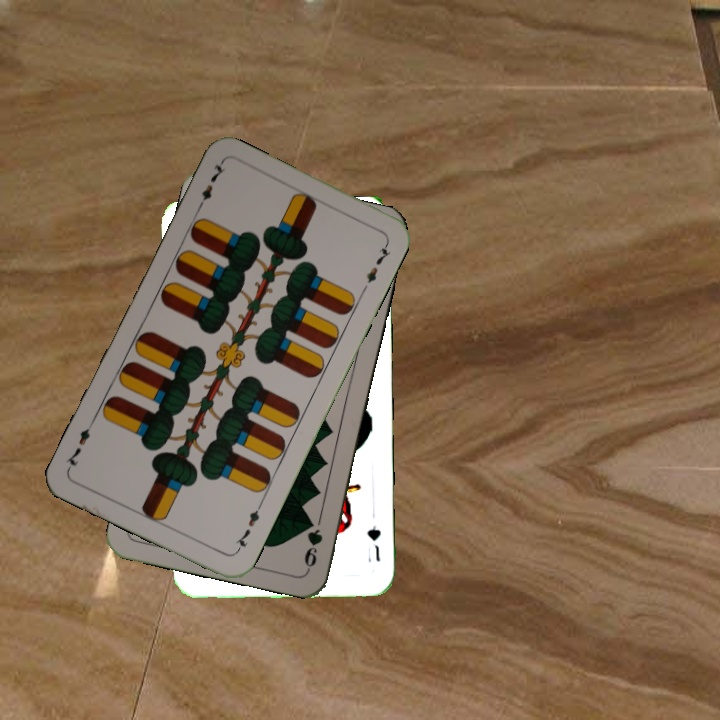E7: (192, 159, 228, 214), (231, 500, 265, 555)
G9: (300, 524, 325, 572)
GU: (363, 521, 383, 564)
